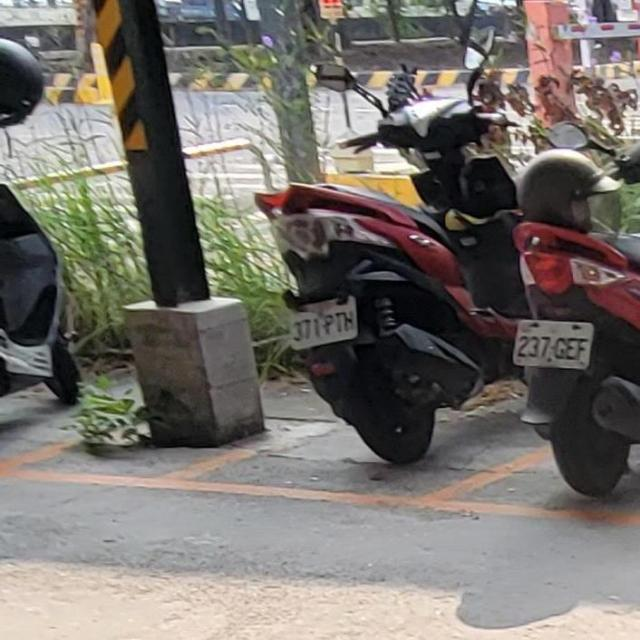W: (279, 292, 366, 352), (508, 314, 598, 372)
